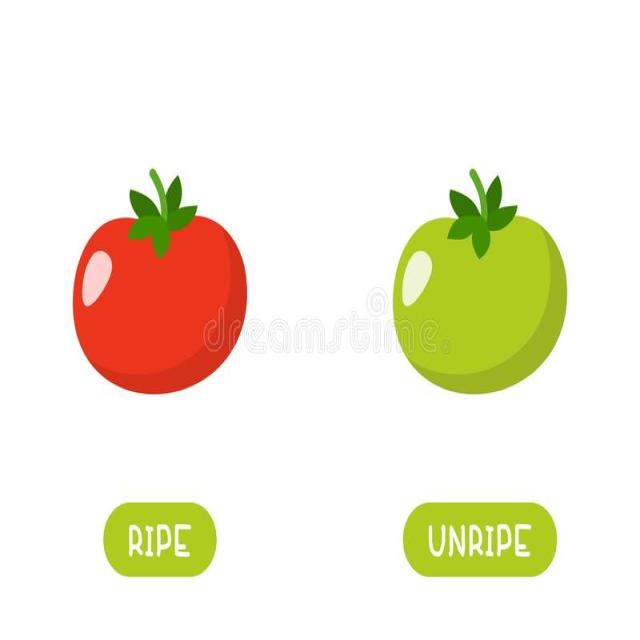kirmizi: (69, 192, 271, 410)
yesil: (348, 163, 593, 436)
